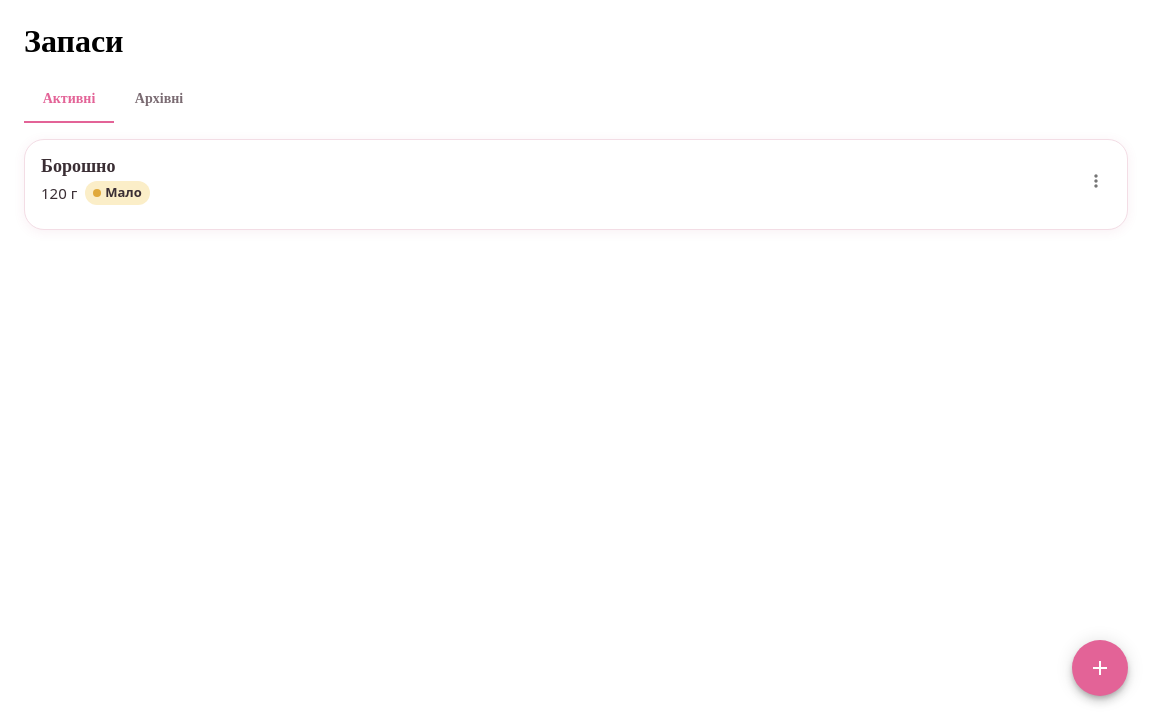
it: InventoryPage correction dialog › shows the canonical title, current-quantity subtitle, placeholder, and helper text
Click the button named "Більше дій для «Борошно»" at point(1096, 180), box [1081, 166, 1111, 196]
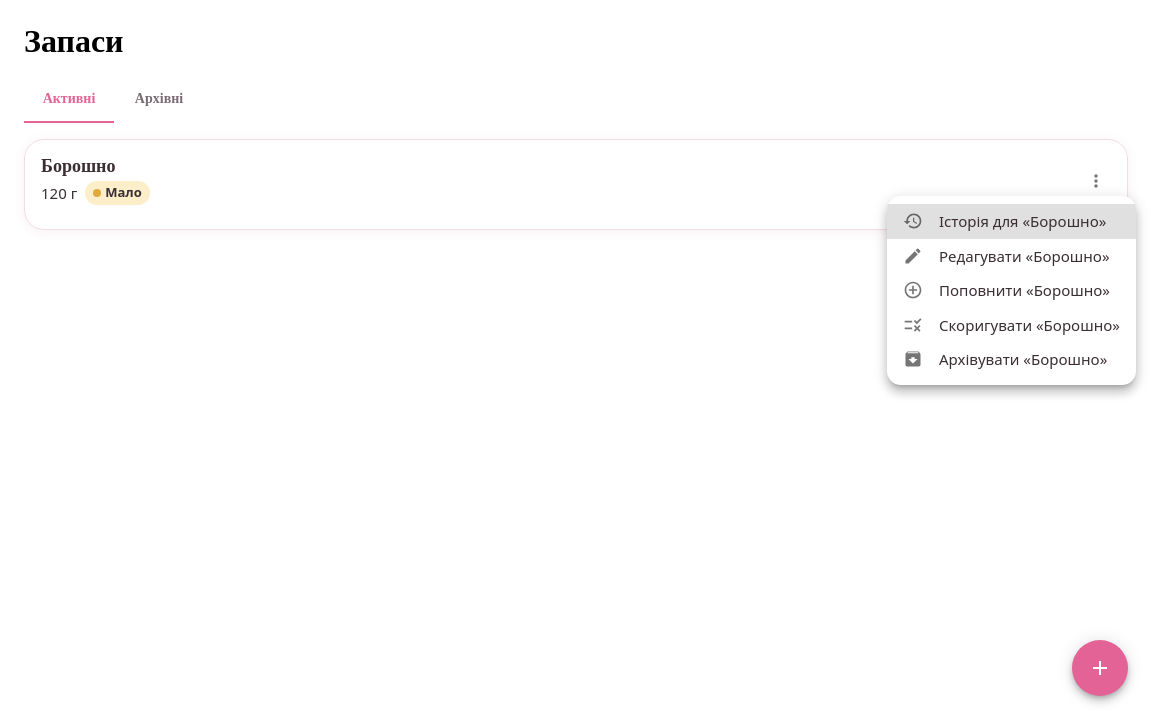
Click the menu item "Скоригувати «Борошно»" at point(1011, 325), box [903, 314, 1120, 335]
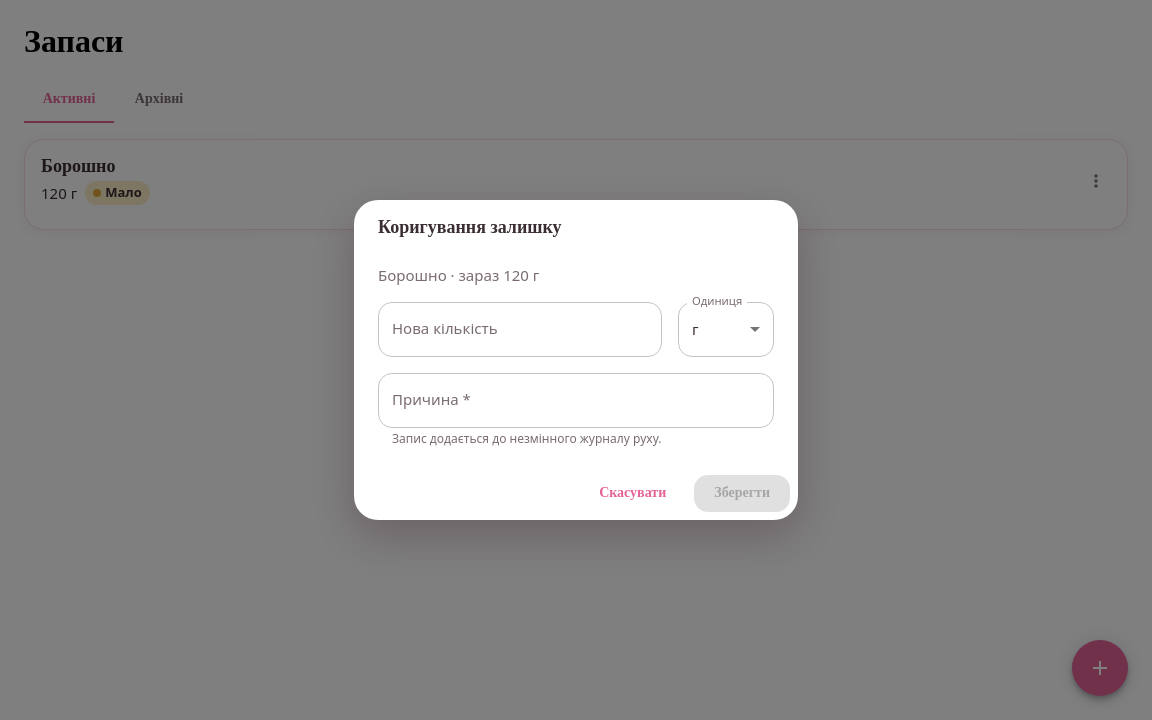
Check: the heading "Коригування залишку" is shown, box [378, 217, 562, 237]
Check: the text "Борошно · зараз 120 г" is shown, box [378, 264, 539, 284]
Check: the field labelled "Нова кількість" is shown, box [378, 302, 662, 357]
